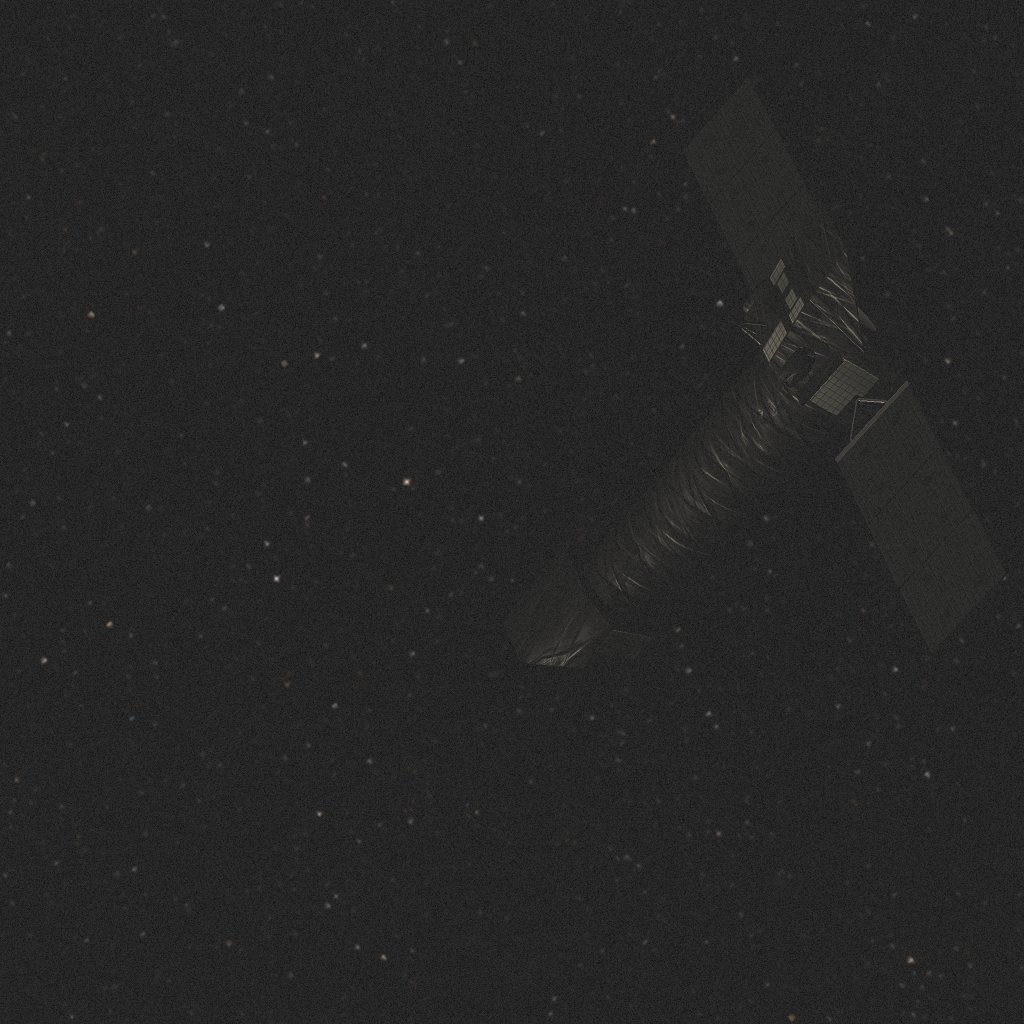xmm_newton: (503, 77, 1007, 668)
